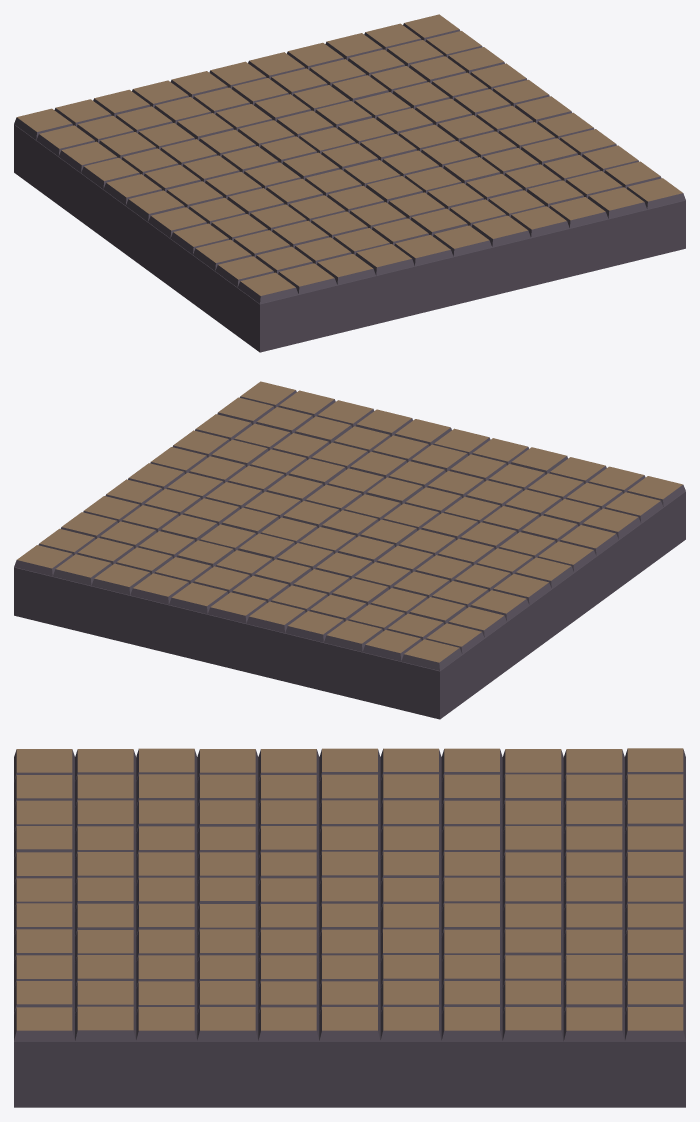
The model's file is tile street 1.fbx.
3 renders of one model, top to bottom at view 1: azimuth 30°, elevation 25°; view 2: azimuth 150°, elevation 25°; view 3: azimuth 270°, elevation 25°, orthographic. The views are drawn at different scales.
Parts seen in each view (by area): view 1: discombobulated_mesh, Cube; view 2: discombobulated_mesh, Cube; view 3: discombobulated_mesh, Cube.
Boxes of the visible parts, x1,y1,x2,y2 form: discombobulated_mesh: (14, 14, 685, 303); Cube: (14, 124, 685, 352); discombobulated_mesh: (14, 381, 685, 670); Cube: (14, 491, 685, 719); discombobulated_mesh: (14, 748, 685, 1041); Cube: (14, 1041, 685, 1107).
Size of the model in its own units: 1852 by 232 by 1852.
